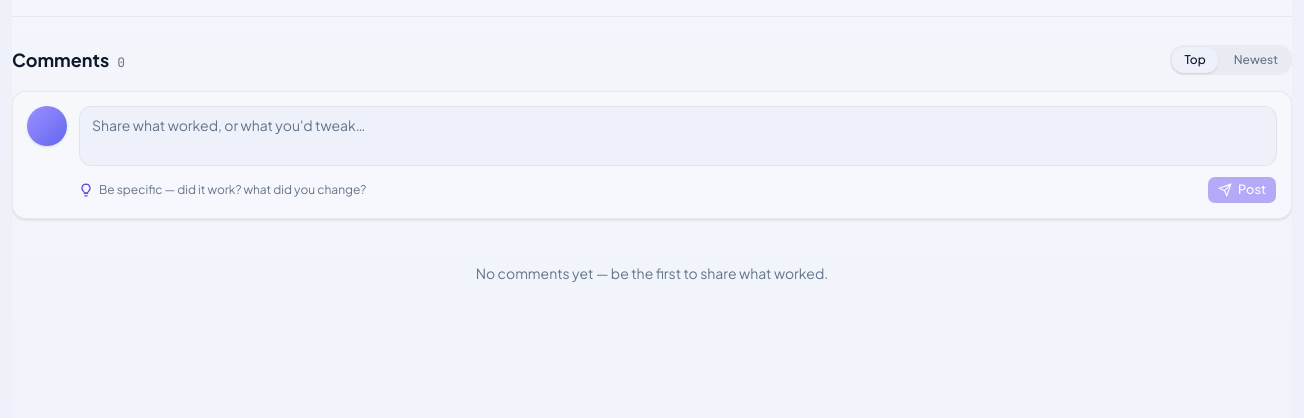
Test: CommentThread › optimistically posts a top-level comment
Type "My new comment" into the text box with placeholder "Share what worked, or what you'd tweak…" at coordinates (678, 136), box [79,106,1277,166]
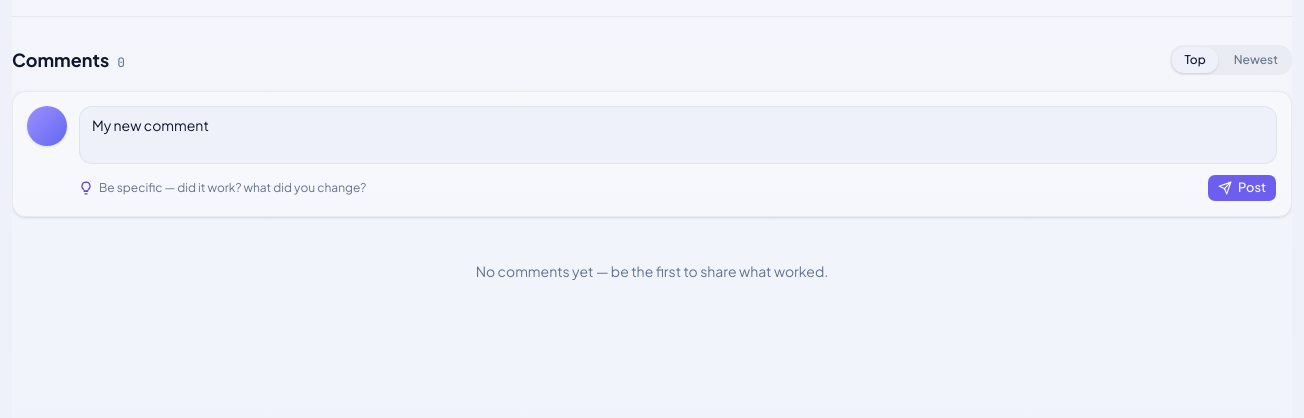
Click the button "Post" at coordinates (1242, 188), box [1207,174,1277,202]
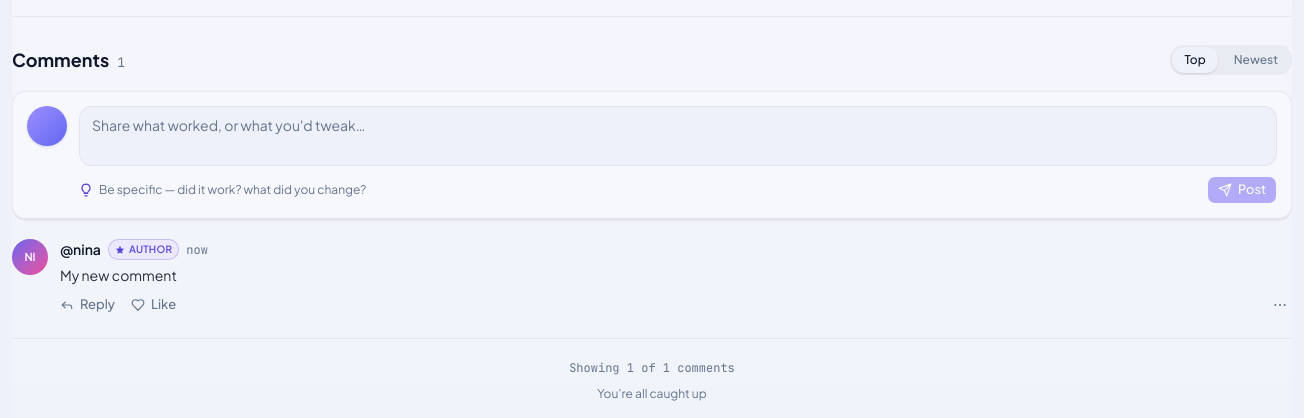
Now the text "My new comment" is shown, box [60,266,177,284]
